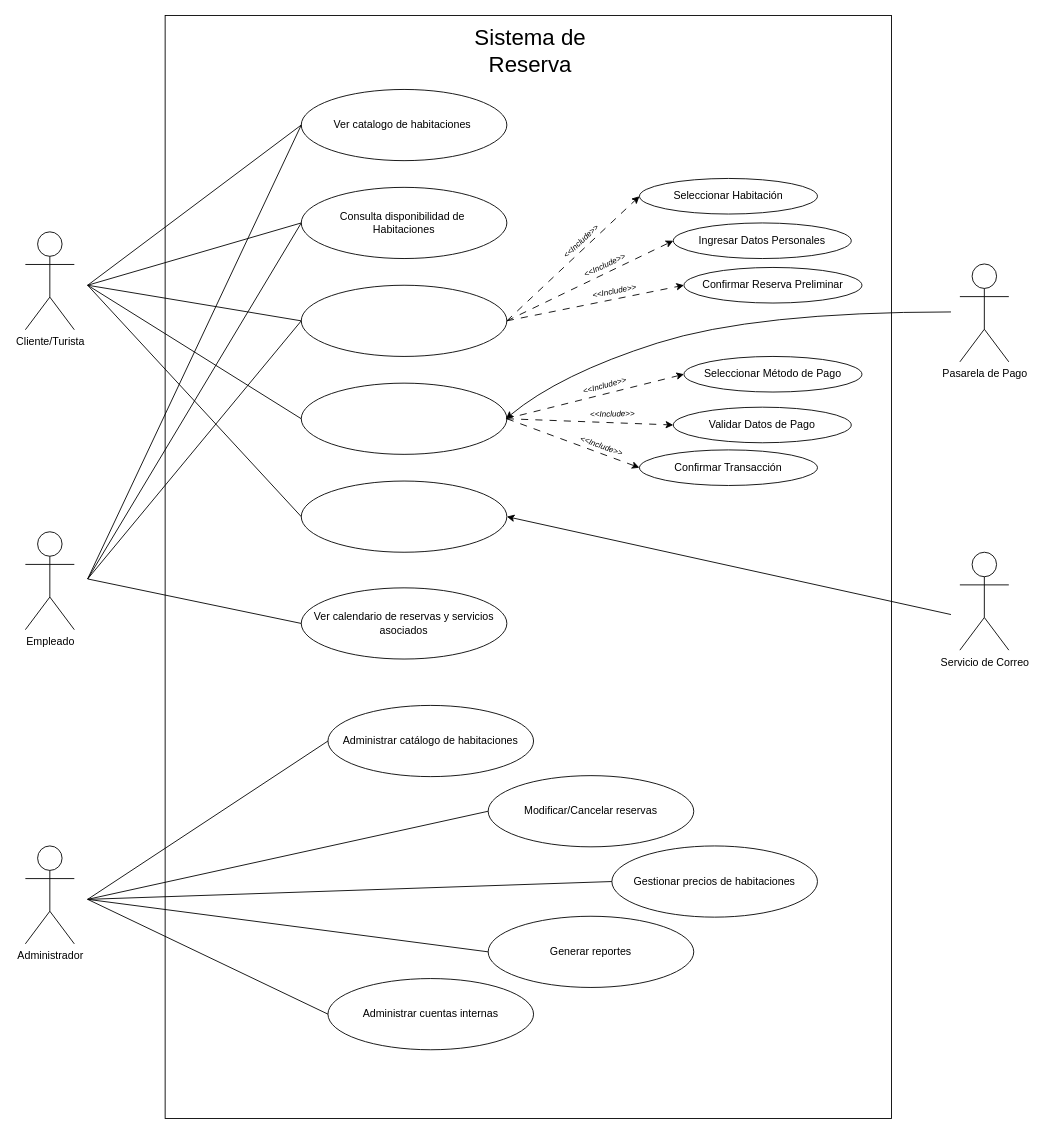
The diagram is 1044 pixels wide and 1135 high, and some of its shapes have lost their labels. The shapes that lost their labels are listed below. From the top down, each one's centre as x and y in pixels, then its label:
At (403,320): "Realizar Reserva".
At (403,418): "Efectuar Pago".
At (403,516): "Recibir confirmación de Reserva".
